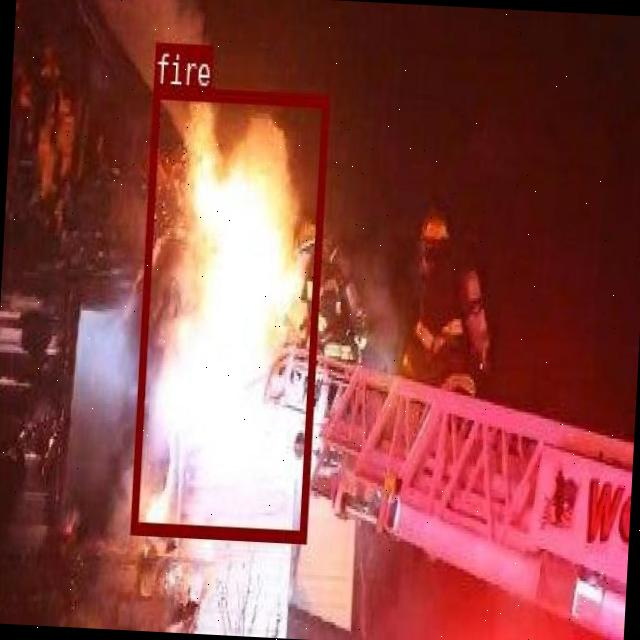fire: (128, 84, 328, 542)
